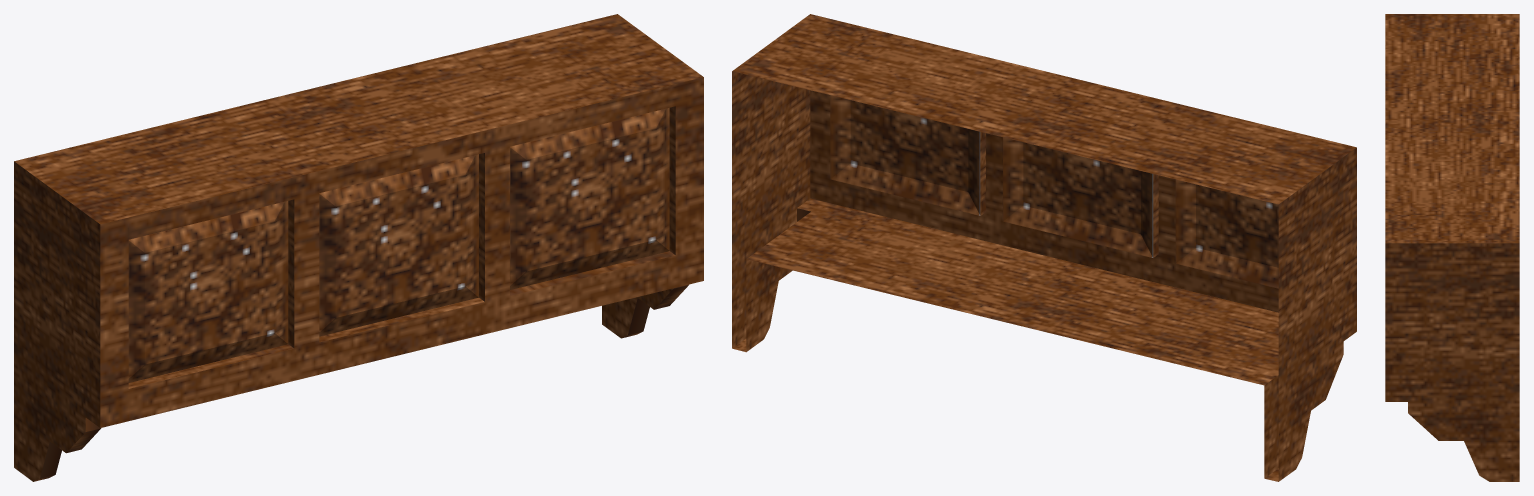
Rendered from SM_Dungeon_Shelf_Wooden_Double_Closed.fbx.
3 views of the same model, side by side, from view 1: azimuth 30°, elevation 25°; view 2: azimuth 150°, elevation 25°; view 3: azimuth 270°, elevation 25° (orthographic). The views are drawn at different scales.
Visible parts, largest first — view 1: SM_Dungeon_Shelf_Wooden_Double.001; view 2: SM_Dungeon_Shelf_Wooden_Double.001; view 3: SM_Dungeon_Shelf_Wooden_Double.001.
Part boxes in pixels (bbox=[...]): SM_Dungeon_Shelf_Wooden_Double.001: bbox=[14, 14, 703, 481]; SM_Dungeon_Shelf_Wooden_Double.001: bbox=[732, 14, 1356, 481]; SM_Dungeon_Shelf_Wooden_Double.001: bbox=[1385, 14, 1519, 481].
Size of the model in its own units: 185 by 89.61 by 45.74.
